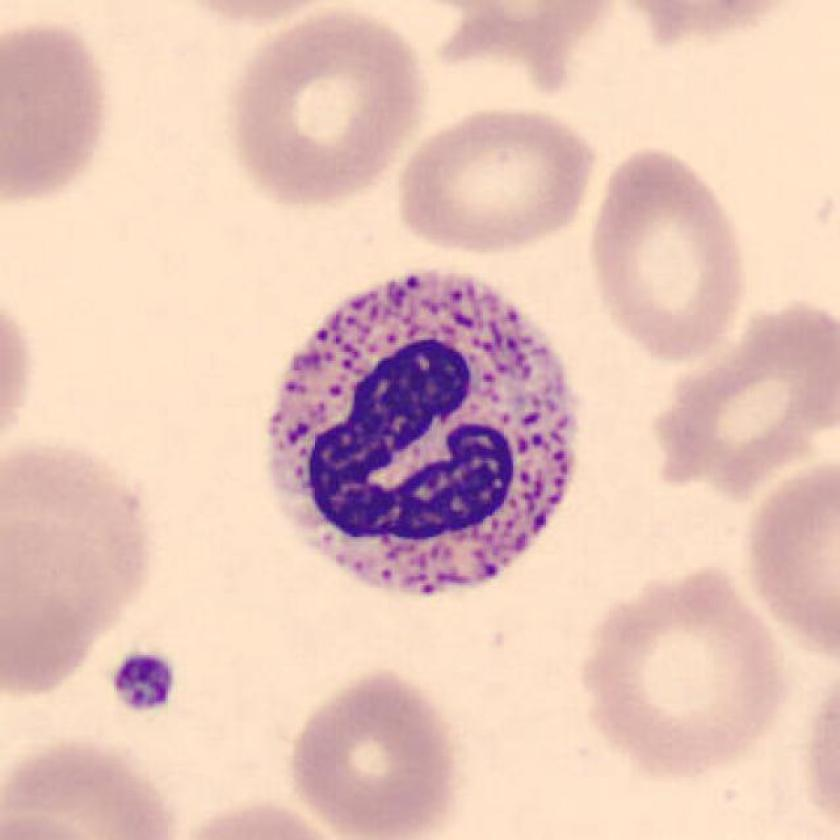neutrophil: (268, 276, 574, 595)
